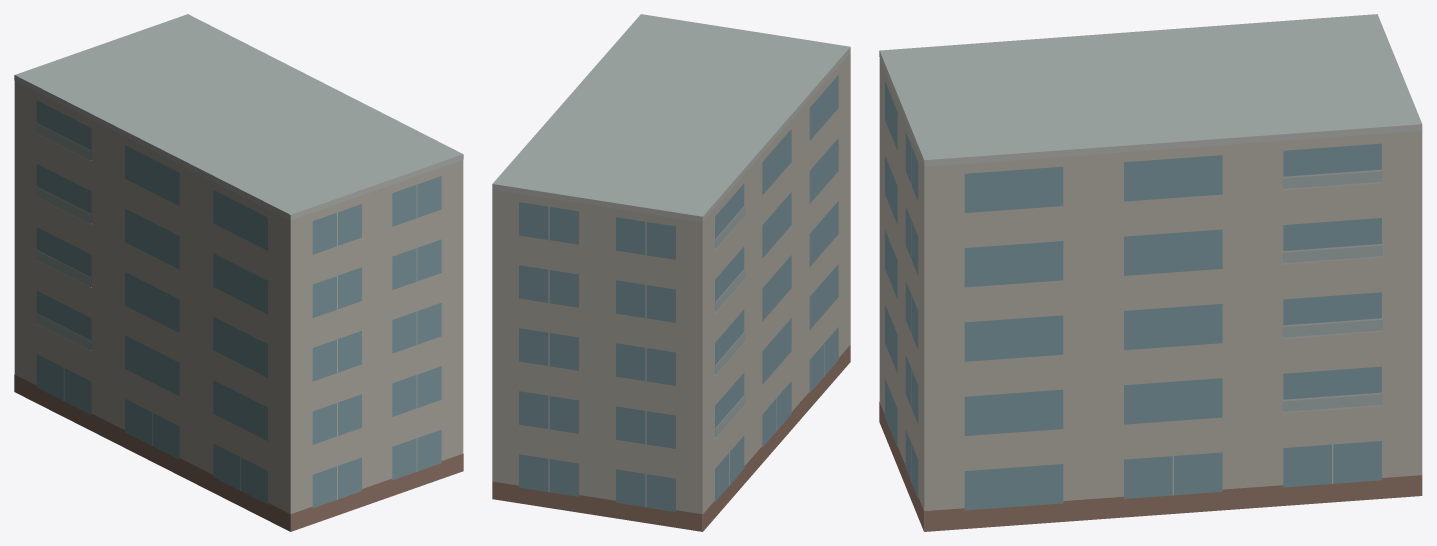
File: survey-upis-33045337.glb
3 renders of one model, left to right at view 1: azimuth 30°, elevation 25°; view 2: azimuth 150°, elevation 25°; view 3: azimuth 270°, elevation 25°, orthographic. The views are drawn at different scales.
Visible parts, largest first — view 1: survey-upis-33045337.tmp; view 2: survey-upis-33045337.tmp; view 3: survey-upis-33045337.tmp.
Boxes of the visible parts, <box> form: survey-upis-33045337.tmp: <box>14,14,463,531</box>; survey-upis-33045337.tmp: <box>492,14,850,531</box>; survey-upis-33045337.tmp: <box>879,14,1422,531</box>.
Bounding box in the file's own units: 11.73 × 13.89 × 18.4.
